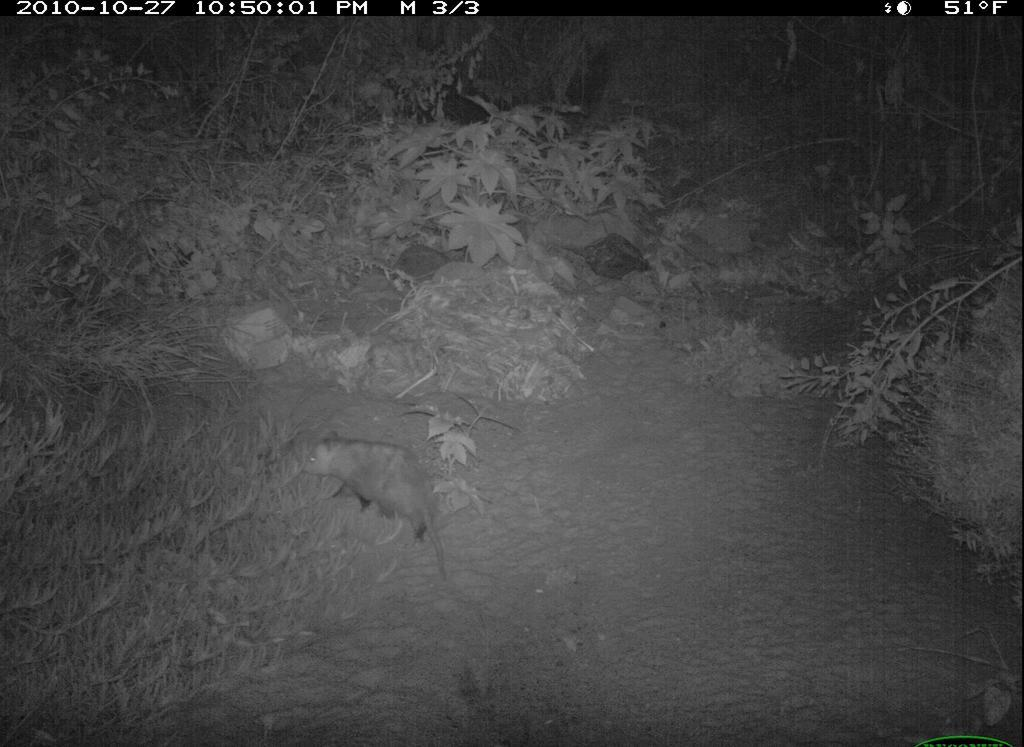opossum: (295, 424, 461, 593)
